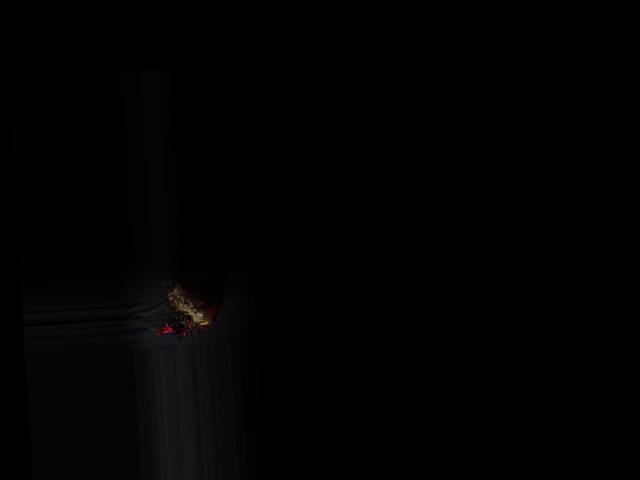beet: (151, 263, 241, 341)
